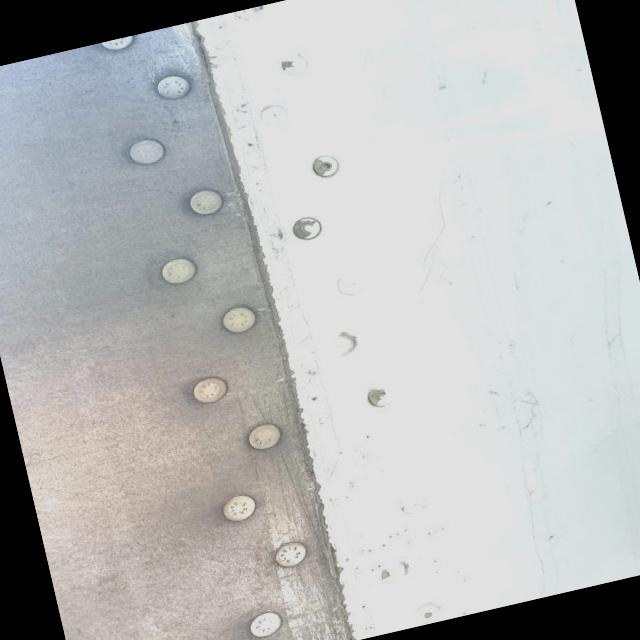crack: (388, 178, 475, 302), (498, 380, 560, 442)
